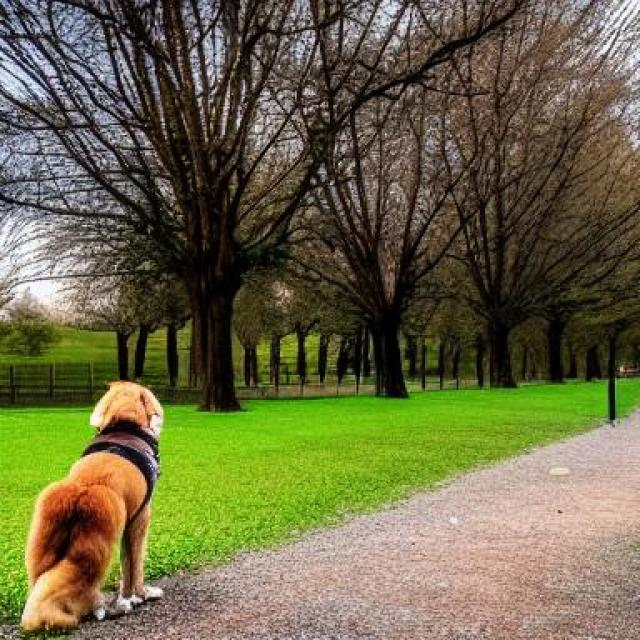Dog: (20, 381, 165, 634)
